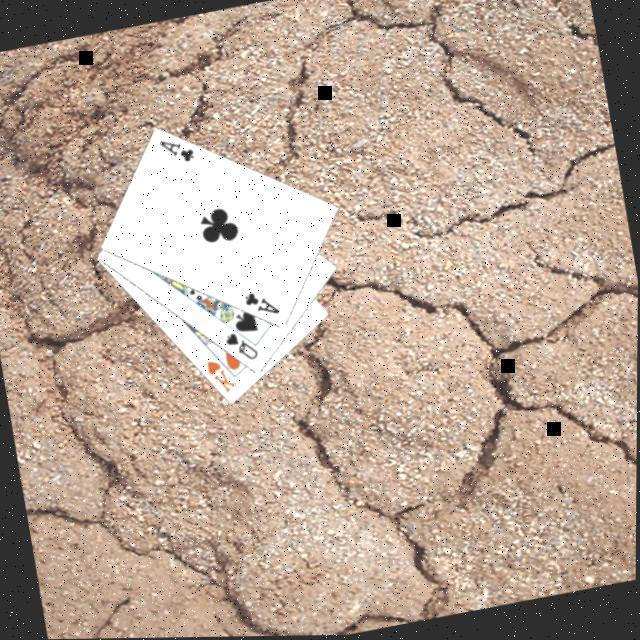AC: (241, 286, 284, 326), (156, 133, 199, 172)
KH: (203, 355, 243, 401)
QS: (222, 328, 264, 370)
